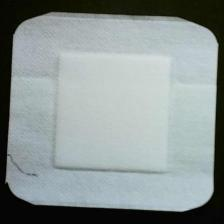Dressing: (5, 10, 222, 216)
F_Body: (7, 151, 43, 182)
